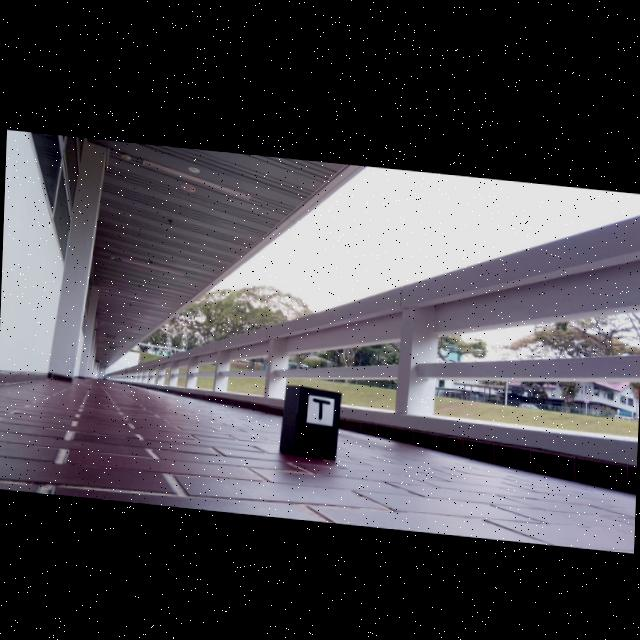T: (312, 394, 330, 416)
